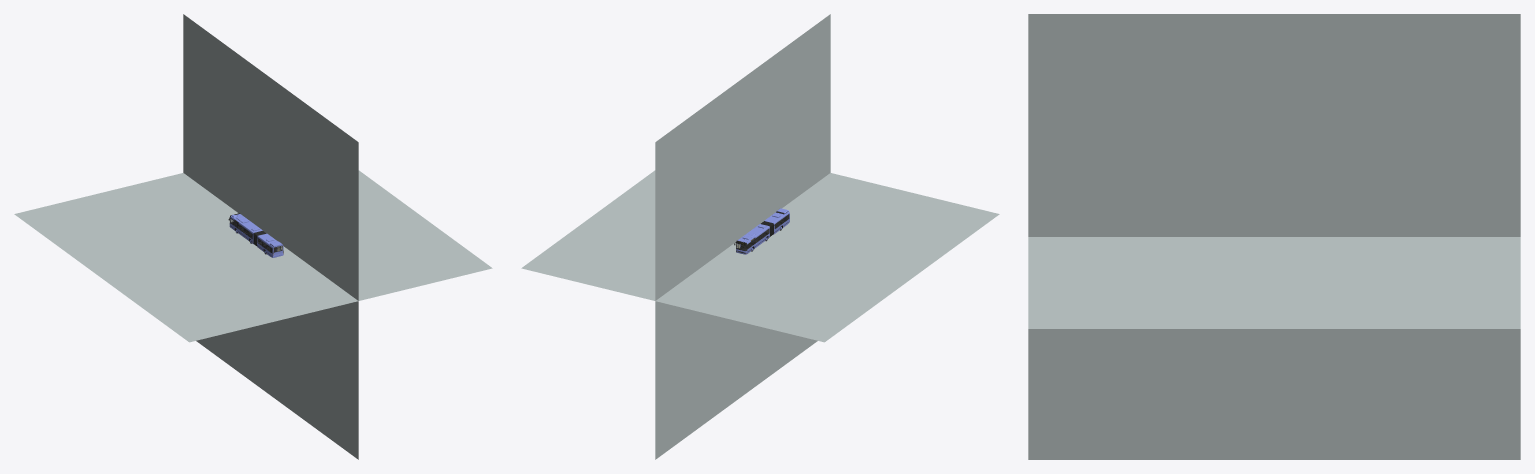
Rendered from 城市公共交通公交车大型客车FBX.fbx.
3 renders of one model, left to right at view 1: azimuth 30°, elevation 25°; view 2: azimuth 150°, elevation 25°; view 3: azimuth 270°, elevation 25°, orthographic. The views are drawn at different scales.
Parts seen in each view (by area): view 1: 平面_1, 平面, Archmodels55_14_carpaint; view 2: 平面_1, 平面, Archmodels55_14_carpaint; view 3: 平面_1, 平面.
Boxes of the visible parts, left/top/right/bottom form: 平面_1: left=183, top=14, right=358, bottom=459; 平面: left=14, top=170, right=492, bottom=342; Archmodels55_14_carpaint: left=229, top=214, right=283, bottom=257; 平面_1: left=655, top=14, right=830, bottom=459; 平面: left=521, top=170, right=999, bottom=342; Archmodels55_14_carpaint: left=736, top=208, right=789, bottom=254; 平面_1: left=1028, top=14, right=1520, bottom=459; 平面: left=1028, top=237, right=1520, bottom=328.
Size of the model in its own units: 7244 by 7244 by 7244.
Materials: 14 (4 with a texture image).
